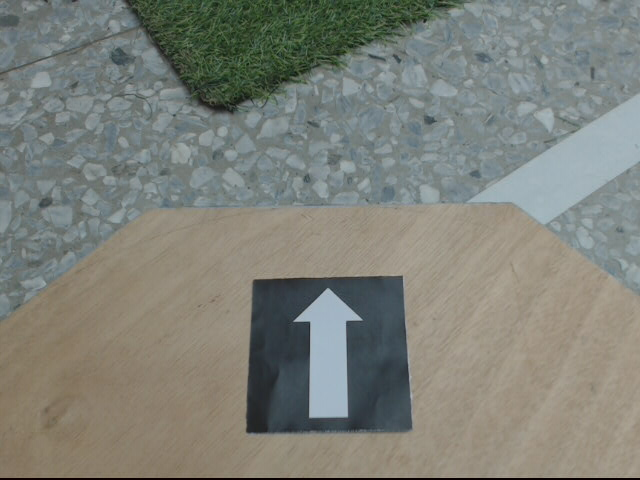straight: (247, 273, 412, 432)
